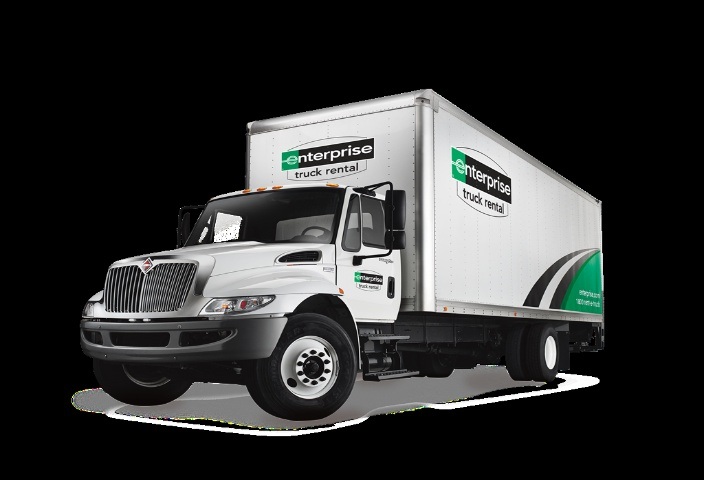truck: (57, 78, 624, 421)
